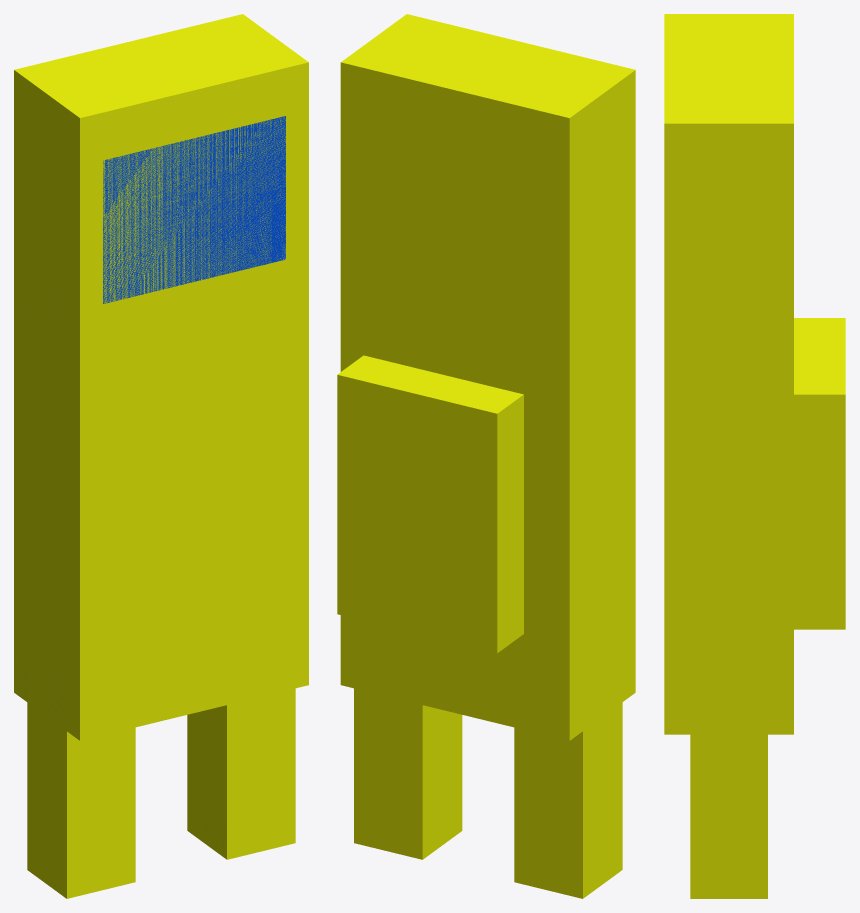
Rendered from Among Us Char(Yellow).gltf.
The picture shows the model from 3 angles, left to right: view 1: azimuth 30°, elevation 25°; view 2: azimuth 150°, elevation 25°; view 3: azimuth 270°, elevation 25°; orthographic projection.
Parts seen in each view (by area): view 1: 05df4ede-f837-c188-2e33-ef64abd97eee, cc3eb372-91fc-9da0-78a3-6f8f9a1f2dee, 9b6c5594-3cbf-47c0-bc0a-358ef91bbe2c, 3fa73543-9e25-d95c-6e87-302f2be02166, 2d3a24b5-ea57-e50f-346a-9413c0539ccd; view 2: cc3eb372-91fc-9da0-78a3-6f8f9a1f2dee, 05df4ede-f837-c188-2e33-ef64abd97eee, 5496d620-28b4-4bca-3728-1c5a1bee6332, 3fa73543-9e25-d95c-6e87-302f2be02166, 2d3a24b5-ea57-e50f-346a-9413c0539ccd; view 3: 05df4ede-f837-c188-2e33-ef64abd97eee, cc3eb372-91fc-9da0-78a3-6f8f9a1f2dee, 5496d620-28b4-4bca-3728-1c5a1bee6332, 2d3a24b5-ea57-e50f-346a-9413c0539ccd.
Part boxes in pixels (left/top/right/bottom): 05df4ede-f837-c188-2e33-ef64abd97eee: left=14, top=302, right=308, bottom=740; cc3eb372-91fc-9da0-78a3-6f8f9a1f2dee: left=14, top=14, right=308, bottom=357; 9b6c5594-3cbf-47c0-bc0a-358ef91bbe2c: left=103, top=116, right=285, bottom=303; 3fa73543-9e25-d95c-6e87-302f2be02166: left=27, top=702, right=135, bottom=898; 2d3a24b5-ea57-e50f-346a-9413c0539ccd: left=187, top=688, right=295, bottom=859; cc3eb372-91fc-9da0-78a3-6f8f9a1f2dee: left=340, top=14, right=635, bottom=357; 05df4ede-f837-c188-2e33-ef64abd97eee: left=340, top=302, right=635, bottom=740; 5496d620-28b4-4bca-3728-1c5a1bee6332: left=337, top=355, right=523, bottom=653; 3fa73543-9e25-d95c-6e87-302f2be02166: left=514, top=702, right=622, bottom=898; 2d3a24b5-ea57-e50f-346a-9413c0539ccd: left=354, top=688, right=462, bottom=859; 05df4ede-f837-c188-2e33-ef64abd97eee: left=664, top=358, right=793, bottom=734; cc3eb372-91fc-9da0-78a3-6f8f9a1f2dee: left=664, top=14, right=793, bottom=358; 5496d620-28b4-4bca-3728-1c5a1bee6332: left=794, top=318, right=845, bottom=629; 2d3a24b5-ea57-e50f-346a-9413c0539ccd: left=690, top=734, right=767, bottom=898.
Bounding box in the file's own units: 0.625 × 2.06 × 0.4375.
4 materials, 4 textured.
